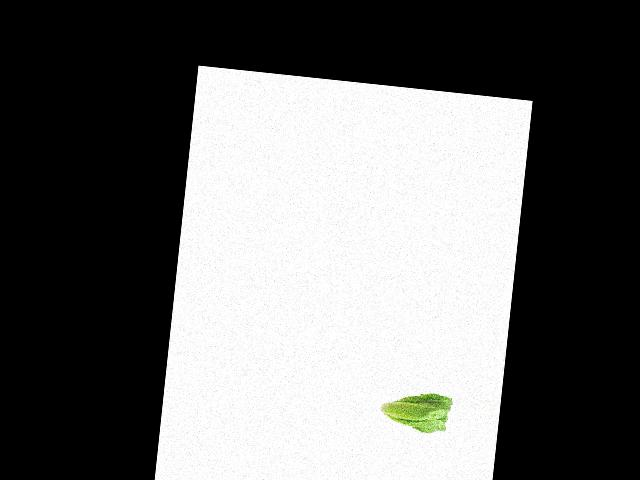lettuce: (377, 384, 454, 437)
